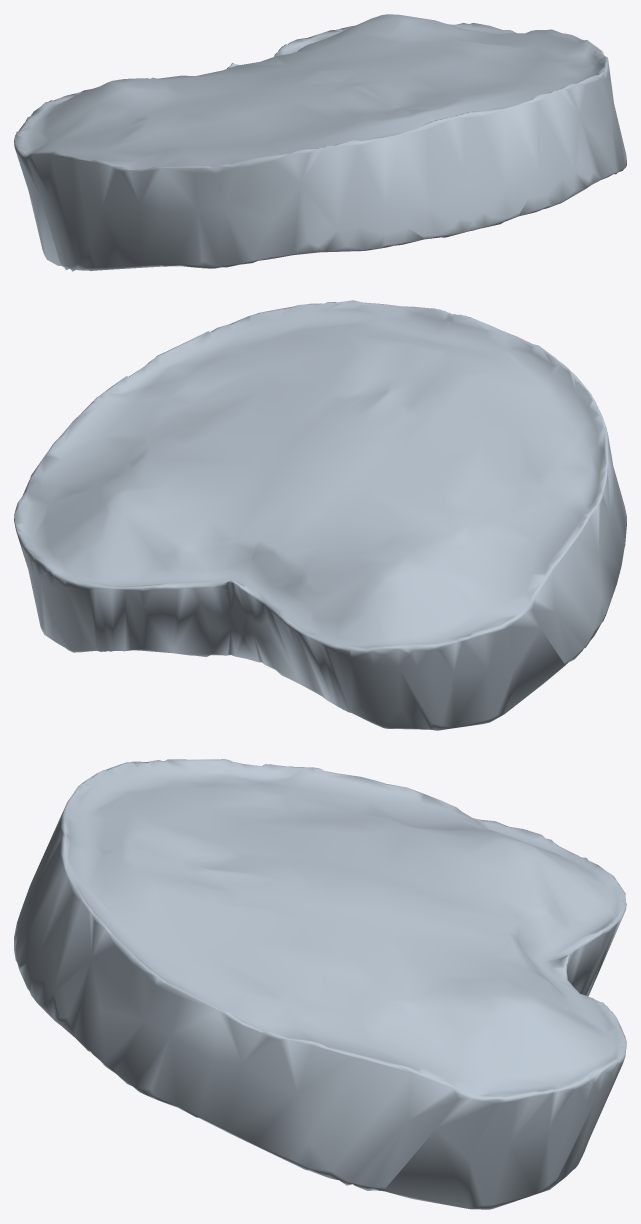
Rendered from intervertebral-disc-t12-l1.glb.
The picture shows the model from 3 angles, top to bottom: view 1: azimuth 30°, elevation 25°; view 2: azimuth 150°, elevation 25°; view 3: azimuth 270°, elevation 25°; orthographic projection. The views are drawn at different scales.
Parts seen in each view (by area): view 1: Intervertebral disc T12-L1; view 2: Intervertebral disc T12-L1; view 3: Intervertebral disc T12-L1.
Part boxes in pixels (x1,y1,x2,y2): Intervertebral disc T12-L1: [14, 14, 626, 271]; Intervertebral disc T12-L1: [14, 300, 626, 730]; Intervertebral disc T12-L1: [14, 759, 626, 1209].
Size of the model in its own units: 0.0445 by 0.0182 by 0.0397.
